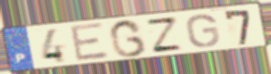4: (38, 28, 71, 65)
7: (223, 9, 252, 47)
E: (68, 21, 111, 64)
G: (108, 18, 149, 59), (185, 13, 222, 49)
Z: (144, 16, 185, 54)
